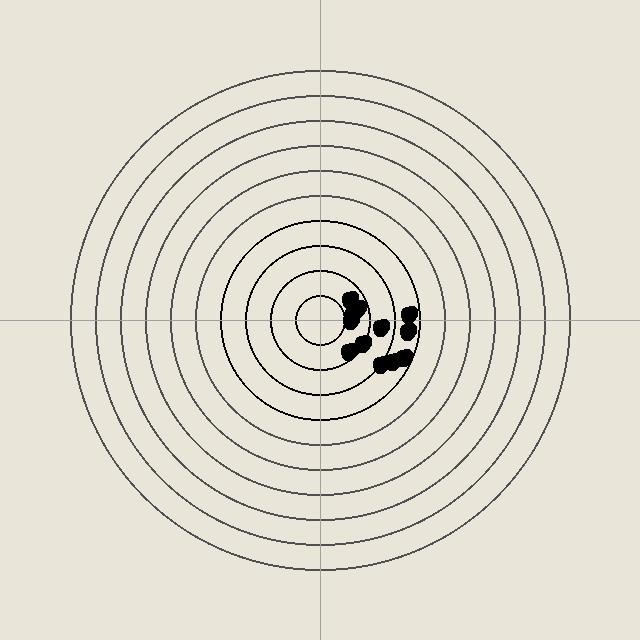good_group: (352, 333, 372, 353), (342, 303, 362, 323), (338, 341, 358, 361), (347, 298, 367, 318), (370, 354, 390, 374), (339, 289, 359, 309), (397, 321, 417, 341), (370, 317, 390, 337), (393, 347, 413, 367), (382, 351, 402, 371), (398, 304, 418, 324), (340, 310, 360, 330)
